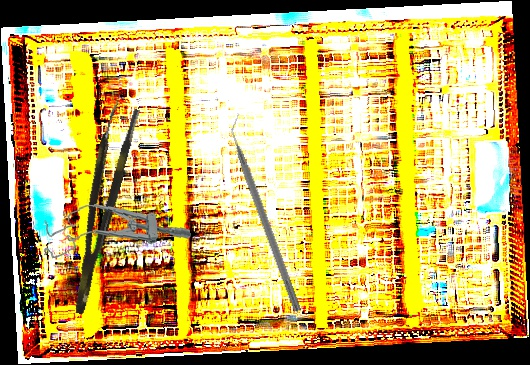Chopper: (223, 111, 312, 314)
Speculum: (40, 197, 192, 260)
Tissue Forceps: (56, 102, 141, 316)
